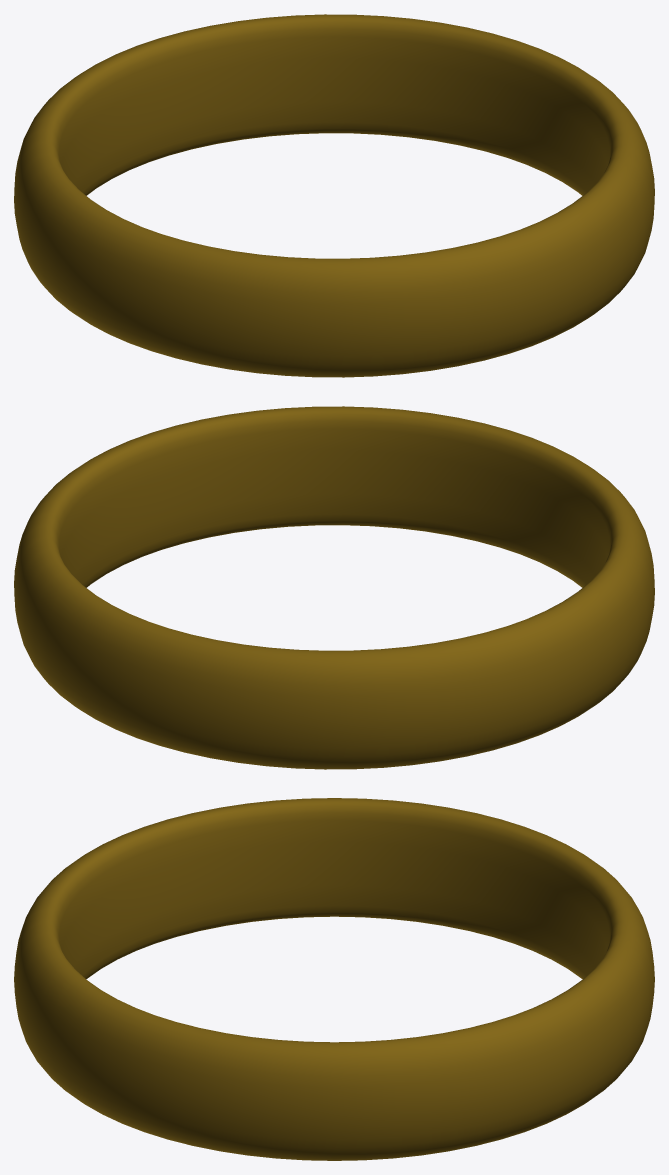
The model's file is Ring1EnlargedLvl2.fbx.
3 views of the same model, one above another, from view 1: azimuth 30°, elevation 25°; view 2: azimuth 150°, elevation 25°; view 3: azimuth 270°, elevation 25° (orthographic).
Parts seen in each view (by area): view 1: RingLP(Enlarged); view 2: RingLP(Enlarged); view 3: RingLP(Enlarged).
Boxes of the visible parts, <box> form: RingLP(Enlarged): <box>14,14,654,377</box>; RingLP(Enlarged): <box>14,406,654,769</box>; RingLP(Enlarged): <box>14,798,654,1160</box>.
Bounding box in the file's own units: 138 × 27.43 × 138.
